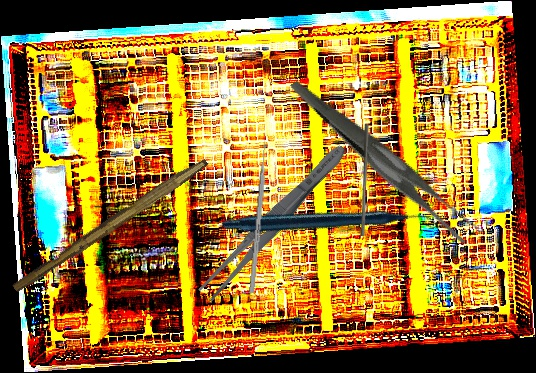Dressing Forceps: (288, 39, 483, 279), (195, 138, 353, 305)
Handpiece: (220, 122, 439, 327)
Pusher: (249, 133, 269, 293), (360, 124, 369, 236)
Scalpel Handle: (10, 151, 210, 298)
